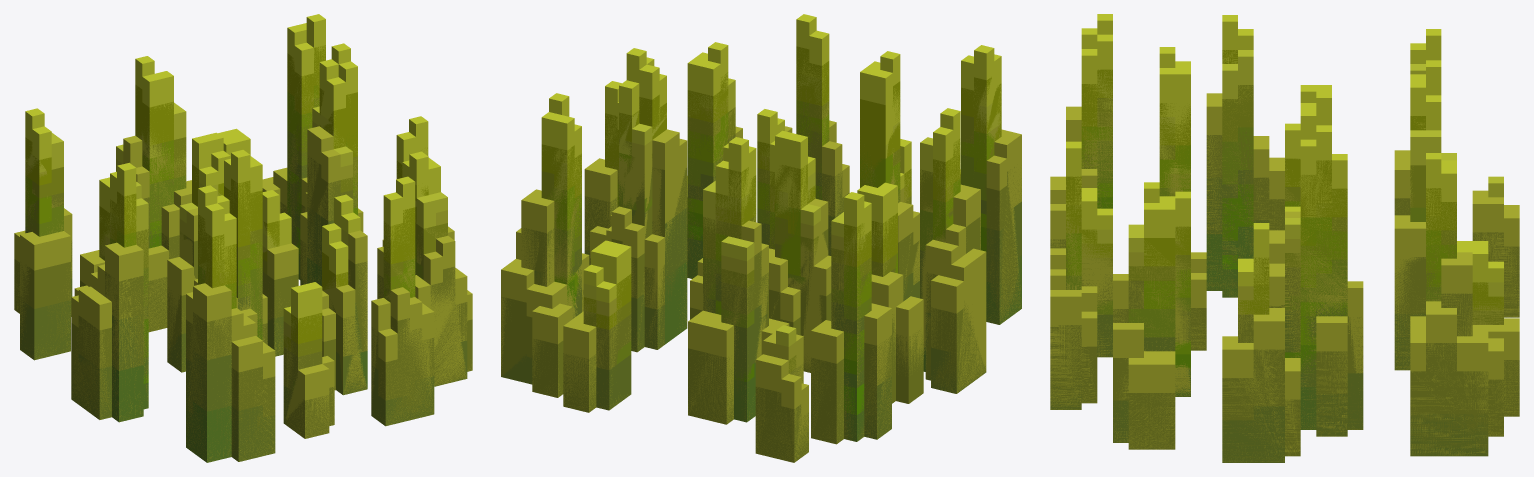
Rendered from Wheat Stages.fbx.
The picture shows the model from 3 angles, left to right: view 1: azimuth 30°, elevation 25°; view 2: azimuth 150°, elevation 25°; view 3: azimuth 270°, elevation 25°; orthographic projection. The views are drawn at different scales.
Parts seen in each view (by area): view 1: Wheat Stage 5, Wheat Stage 4, Wheat Stage 3, Wheat Stage 2; view 2: Wheat Stage 5, Wheat Stage 4, Wheat Stage 3, Wheat Stage 2, Wheat Stage 1; view 3: Wheat Stage 5, Wheat Stage 4, Wheat Stage 3, Wheat Stage 2, Wheat Stage 1.
Boxes of the visible parts, left/top/right/bottom form: Wheat Stage 5: left=14, top=14, right=472, bottom=461; Wheat Stage 4: left=14, top=45, right=472, bottom=461; Wheat Stage 3: left=20, top=85, right=467, bottom=461; Wheat Stage 2: left=112, top=169, right=367, bottom=462; Wheat Stage 5: left=501, top=14, right=1021, bottom=462; Wheat Stage 4: left=501, top=46, right=1021, bottom=462; Wheat Stage 3: left=501, top=100, right=1021, bottom=441; Wheat Stage 2: left=554, top=185, right=1021, bottom=441; Wheat Stage 1: left=687, top=224, right=986, bottom=441; Wheat Stage 5: left=1050, top=14, right=1519, bottom=462; Wheat Stage 4: left=1050, top=50, right=1519, bottom=461; Wheat Stage 3: left=1050, top=126, right=1488, bottom=462; Wheat Stage 2: left=1097, top=183, right=1347, bottom=429; Wheat Stage 1: left=1222, top=255, right=1316, bottom=429.
Bounding box in the file's own units: 0.6 × 0.58 × 0.42.
5 materials, 5 textured.
